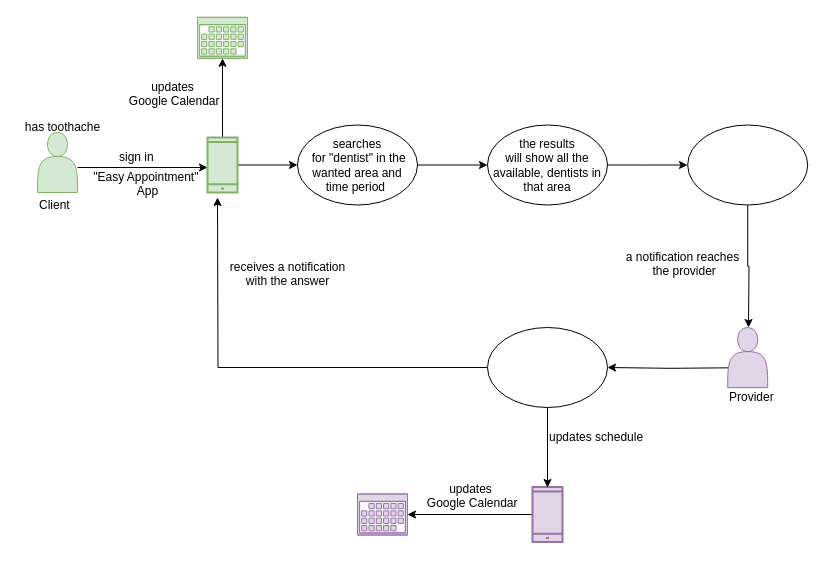
Image size: 825x561. Some labels were removed from this diagram. The centre of each missing label's shape, as x and y in pixels:
"accepts the intend" goes at (547,367).
"makes an appointment with a provider" goes at (747,164).
